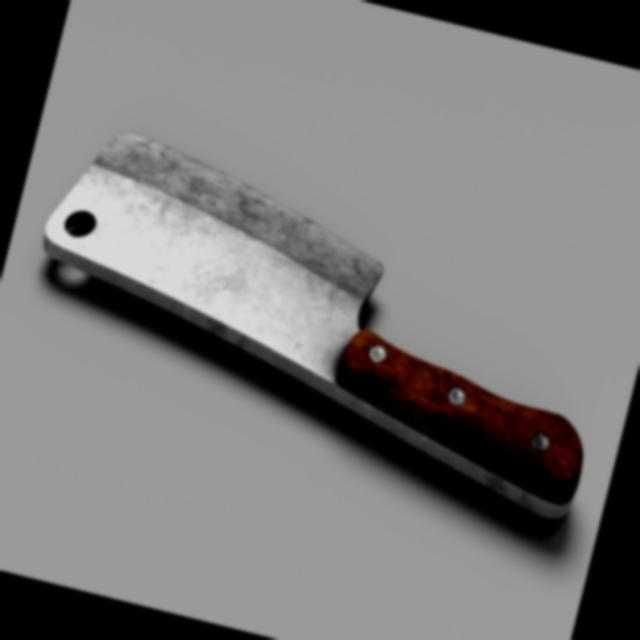cleaver: (1, 112, 632, 535)
